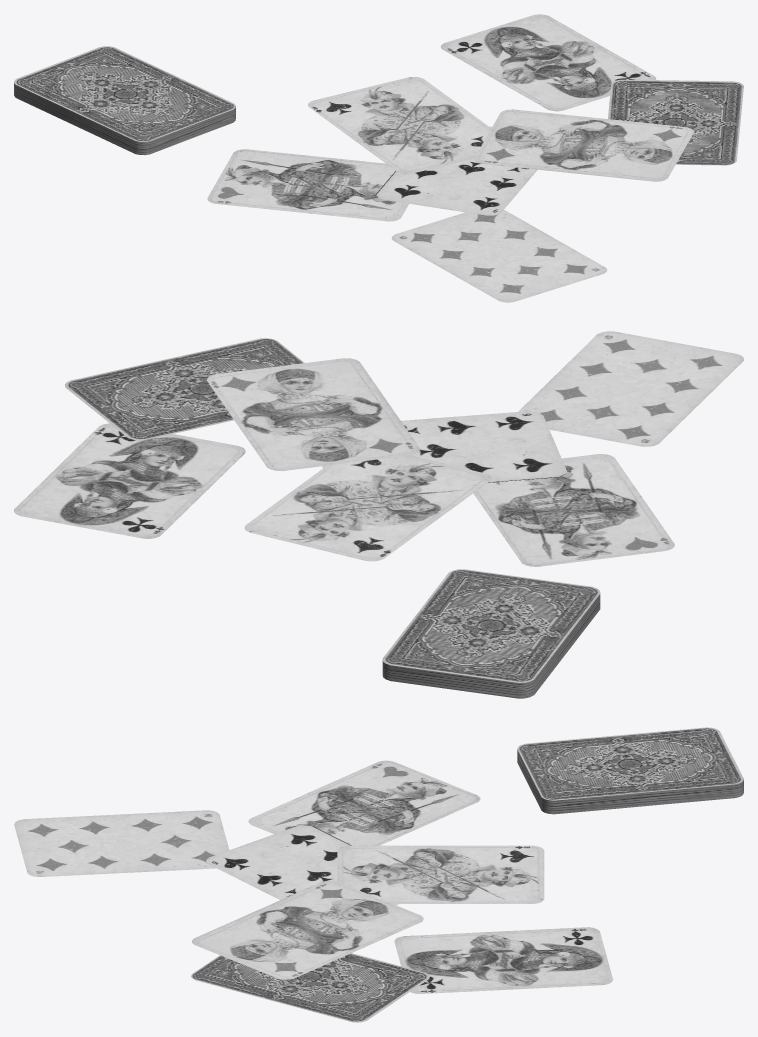
The model's file is game_cards.fbx.
The picture shows the model from 3 angles, top to bottom: view 1: azimuth 30°, elevation 25°; view 2: azimuth 150°, elevation 25°; view 3: azimuth 270°, elevation 25°; orthographic projection. The views are drawn at different scales.
Visible parts, largest first — view 1: Plane007, Plane006, Plane004, Plane003, Plane001, Plane005, Plane008, Plane002; view 2: Plane007, Plane006, Plane004, Plane003, Plane001, Plane005, Plane008, Plane002; view 3: Plane007, Plane006, Plane004, Plane003, Plane001, Plane005, Plane008, Plane002.
Part boxes in pixels (bbox=[...]): Plane007: bbox=[14, 46, 235, 155]; Plane006: bbox=[474, 109, 693, 181]; Plane004: bbox=[391, 210, 607, 302]; Plane003: bbox=[440, 14, 656, 111]; Plane001: bbox=[308, 77, 491, 173]; Plane005: bbox=[207, 149, 408, 221]; Plane008: bbox=[608, 79, 743, 165]; Plane002: bbox=[376, 126, 537, 215]; Plane007: bbox=[382, 569, 600, 698]; Plane006: bbox=[206, 358, 419, 471]; Plane004: bbox=[518, 331, 743, 446]; Plane003: bbox=[14, 423, 245, 538]; Plane001: bbox=[244, 455, 491, 561]; Plane005: bbox=[473, 454, 674, 566]; Plane008: bbox=[65, 338, 304, 440]; Plane002: bbox=[322, 411, 566, 482]; Plane007: bbox=[517, 727, 743, 814]; Plane006: bbox=[192, 880, 423, 979]; Plane004: bbox=[14, 810, 229, 876]; Plane003: bbox=[394, 927, 612, 993]; Plane001: bbox=[337, 845, 544, 903]; Plane005: bbox=[248, 760, 480, 845]; Plane008: bbox=[191, 953, 429, 1022]; Plane002: bbox=[206, 825, 398, 904].
Size of the model in its own units: 29.1 by 0.6539 by 31.74.
